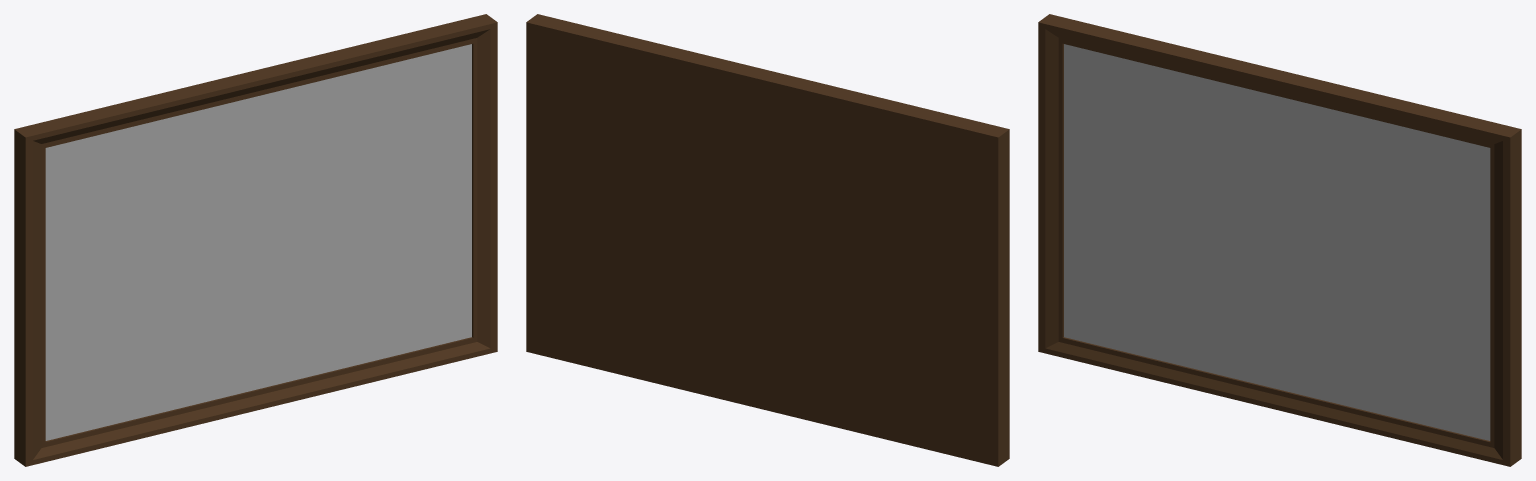
File: PictureFrame.fbx
3 renders of one model, left to right at view 1: azimuth 30°, elevation 25°; view 2: azimuth 150°, elevation 25°; view 3: azimuth 330°, elevation 25°, orthographic.
Parts seen in each view (by area): view 1: PictureFrame; view 2: PictureFrame; view 3: PictureFrame.
Boxes of the visible parts, x1,y1,x2,y2 form: PictureFrame: (14,14,497,466); PictureFrame: (526,14,1009,466); PictureFrame: (1038,14,1521,466).
Bounding box in the file's own units: 1.2 × 0.8 × 0.05.
